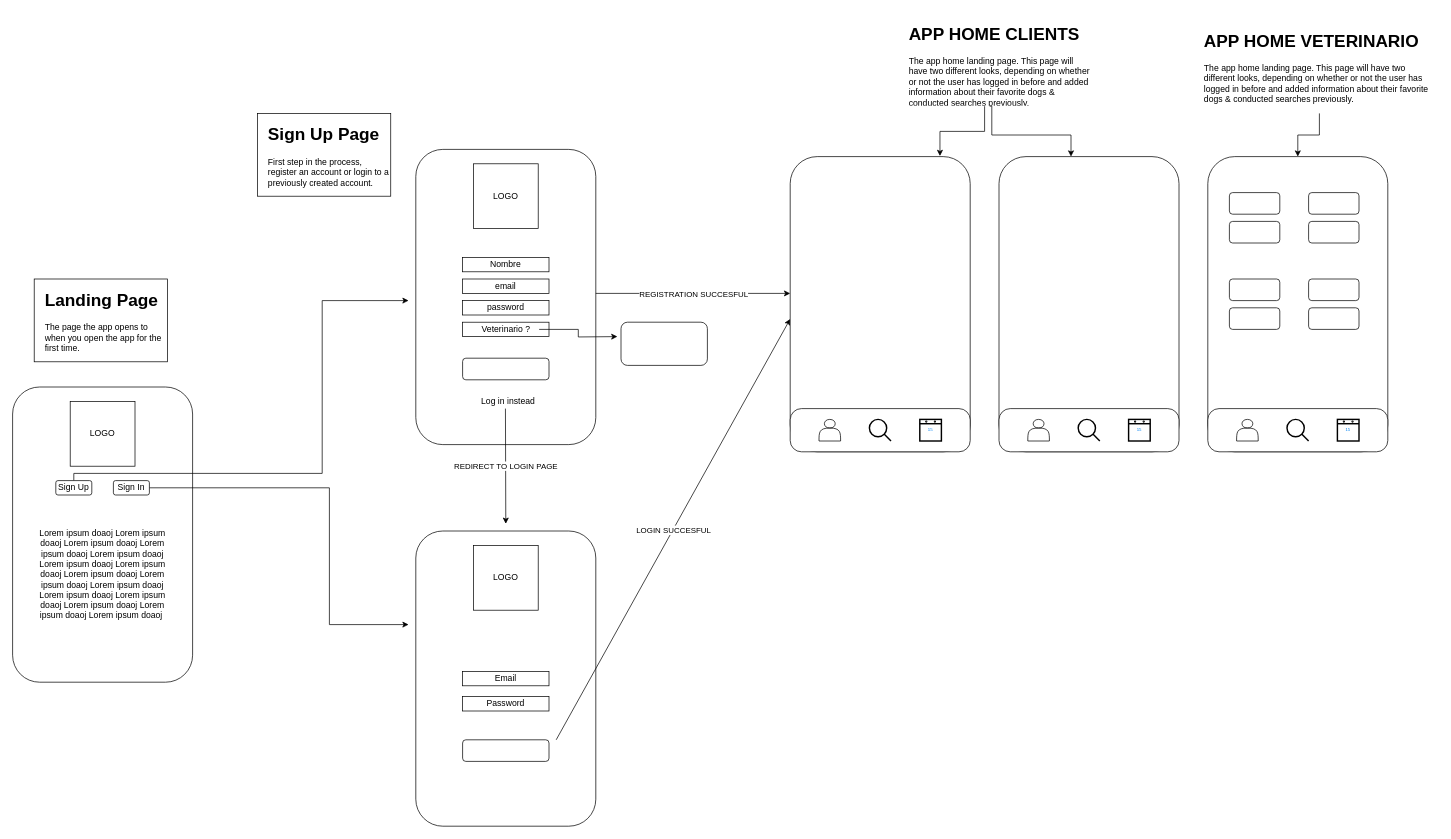
This 1451x839 diagram has some shape labels left out. The box of each missing label's shape, as (x1, y1, x2, y2) in pixels:
Dropdown con respuesta de si o no: (620, 321, 707, 365)
LOGIN: (462, 739, 549, 761)
REGISTRARME: (462, 357, 549, 380)
